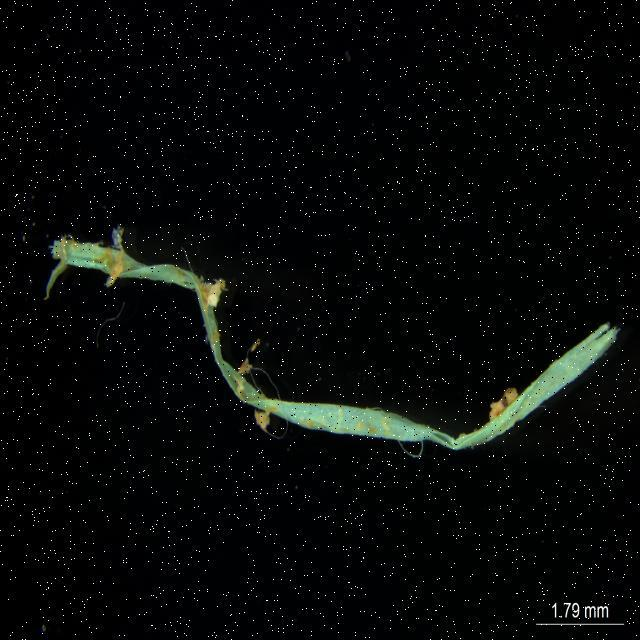Fibre: (39, 218, 626, 466)
